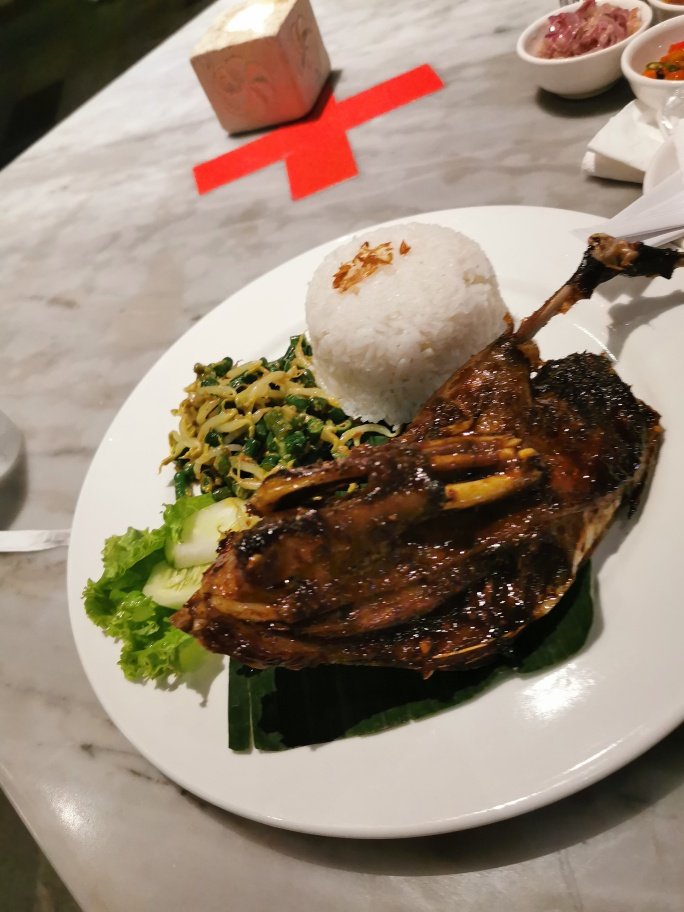bebek bakar: (152, 230, 684, 663)
nasi putih: (282, 216, 504, 419)
